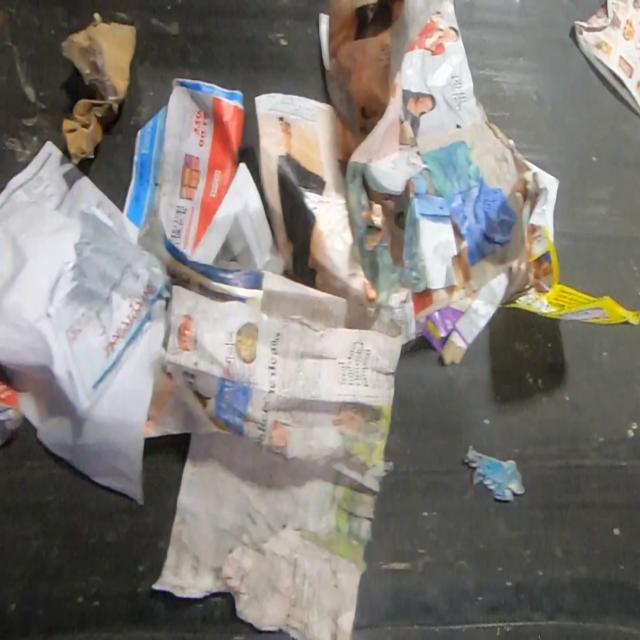cardboard: (57, 10, 138, 169), (414, 264, 511, 367)
